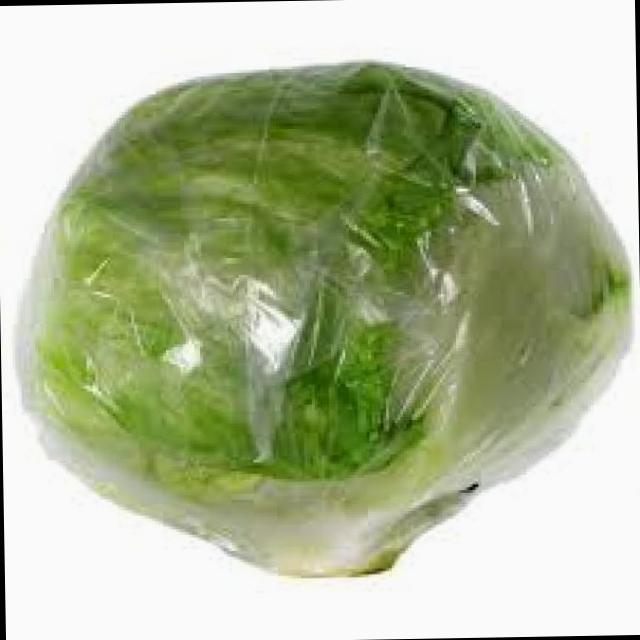Lettuce-Ready-to-Harvest: (20, 64, 629, 574)
